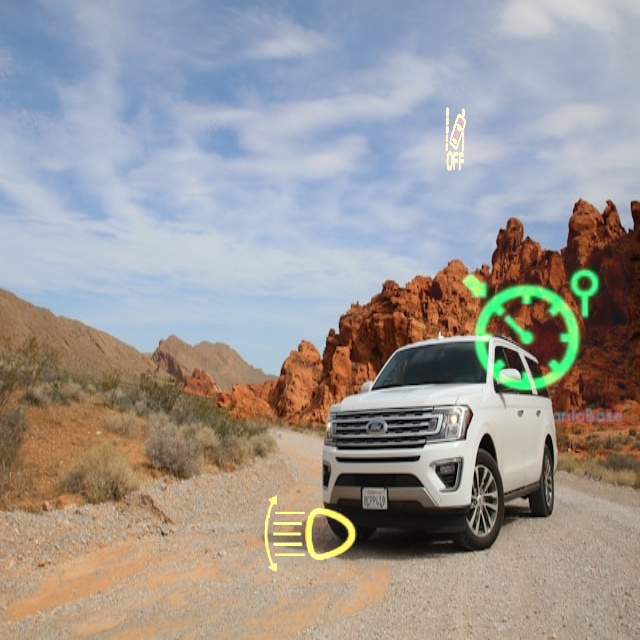symbol: (430, 232, 630, 432), (241, 463, 380, 602), (241, 200, 371, 330), (390, 79, 515, 204)
